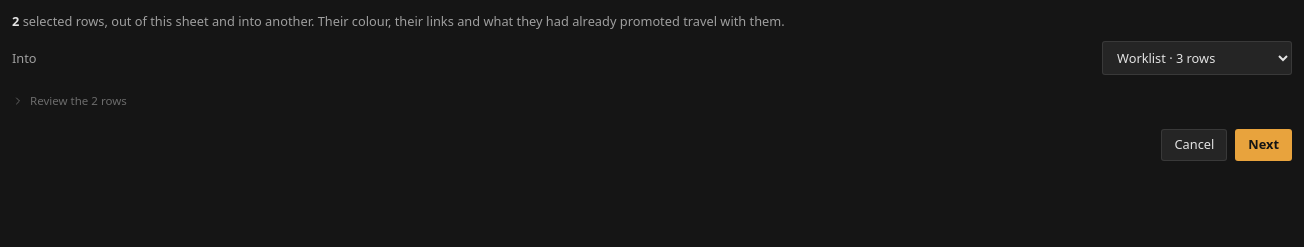
the rows a move is about to take › lists them, and a row taken back out stops counting
Click the button "Review the 2 rows" at (78, 101), box [12,88,1292,114]
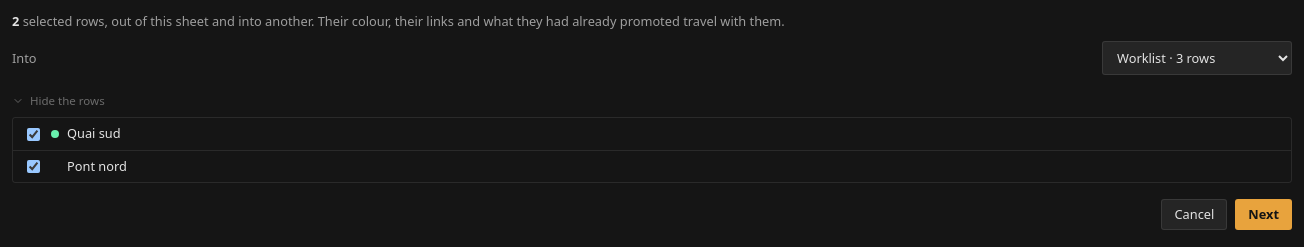
Now the text "Quai sud" is shown, box [67,124,121,144]
Click the checkbox labelled "Pont nord" at (34, 166), box [27,160,40,173]
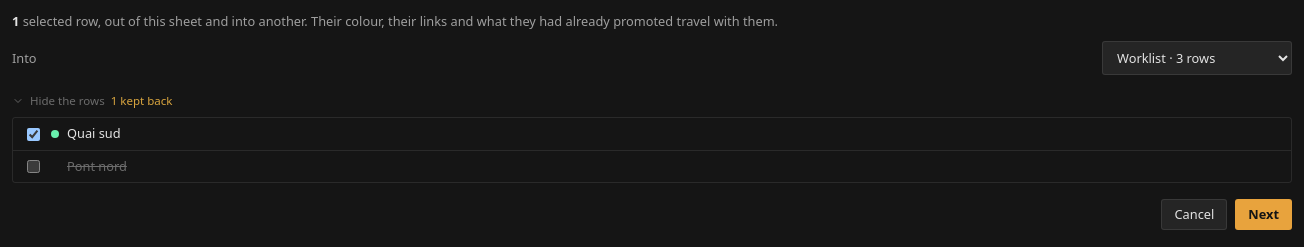
Now the text "1 selected row" is shown, box [12,12,778,30]
Now the text "1 kept back" is shown, box [111,92,172,110]
